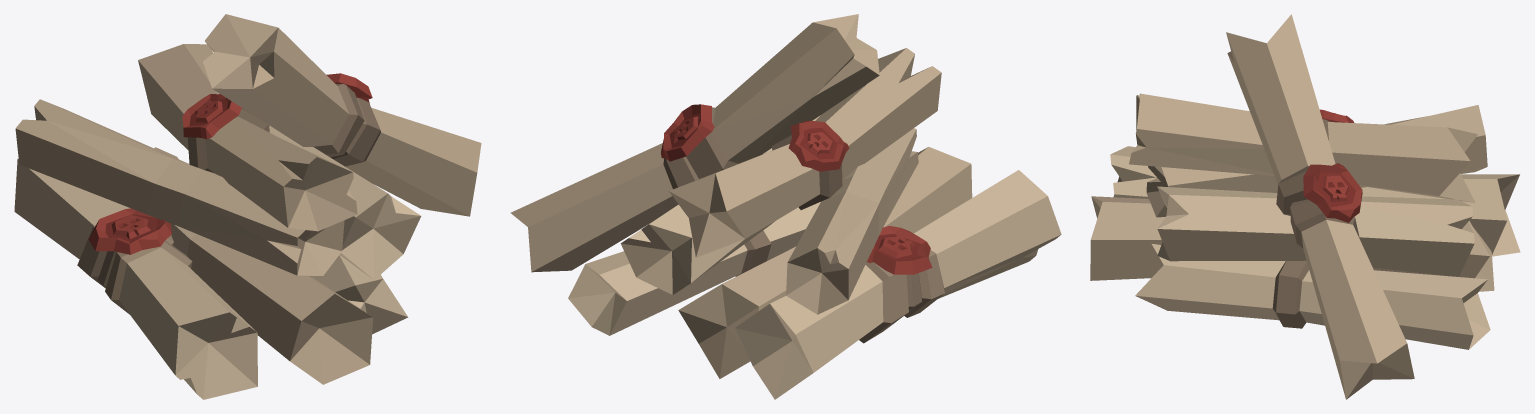
Rendered from SM_Prop_Scroll_Pile_01.fbx.
3 renders of one model, left to right at view 1: azimuth 30°, elevation 25°; view 2: azimuth 150°, elevation 25°; view 3: azimuth 270°, elevation 25°, orthographic. The views are drawn at different scales.
Parts seen in each view (by area): view 1: SM_Prop_Scroll_Pile_01; view 2: SM_Prop_Scroll_Pile_01; view 3: SM_Prop_Scroll_Pile_01.
Part boxes in pixels (x1,y1,x2,y2): SM_Prop_Scroll_Pile_01: (14,14,481,399); SM_Prop_Scroll_Pile_01: (510,14,1061,399); SM_Prop_Scroll_Pile_01: (1090,14,1520,399).
Bounding box in the file's own units: 74.47 × 47.29 × 68.11.
